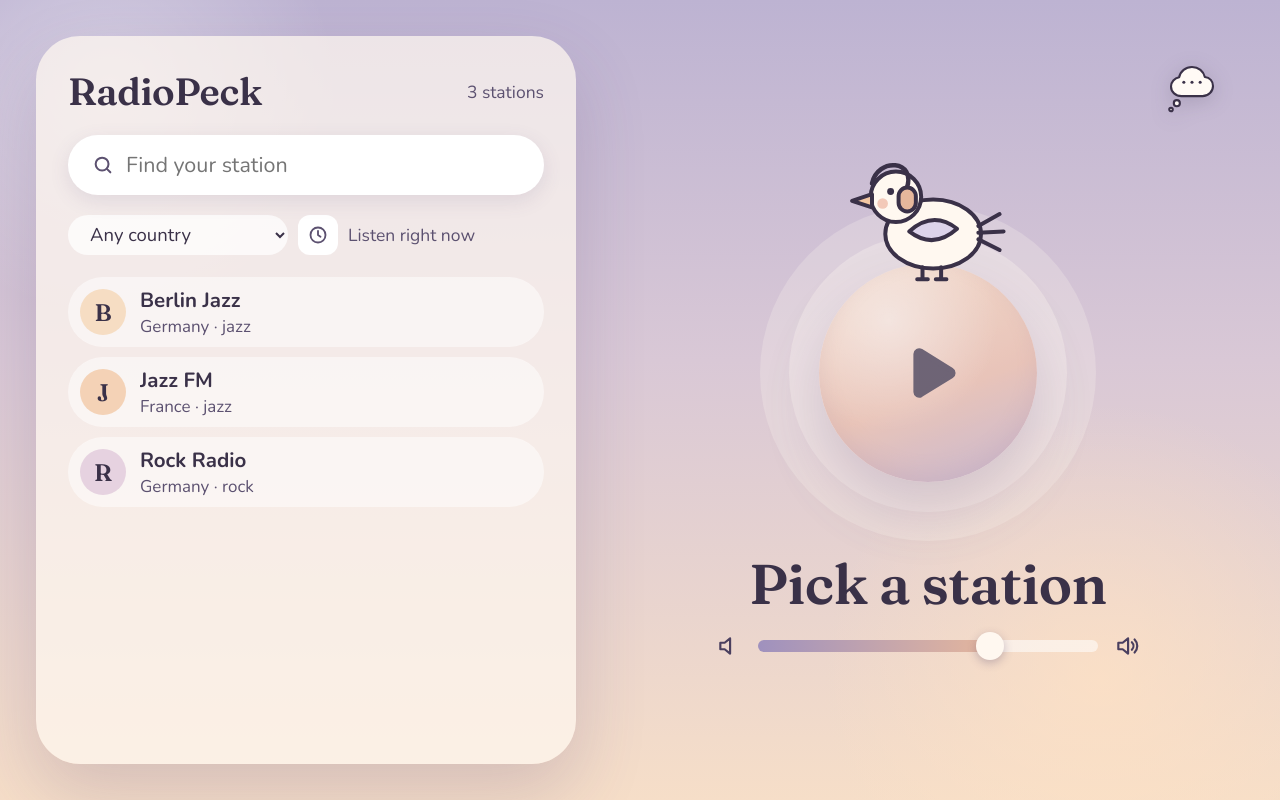
it: App: recently played › shows a hint when nothing has been played yet
What coordinates should you click on to do the following:
click the button named "Recently played"
I would click on:
 (318, 235)
Its box is [298, 215, 338, 255].
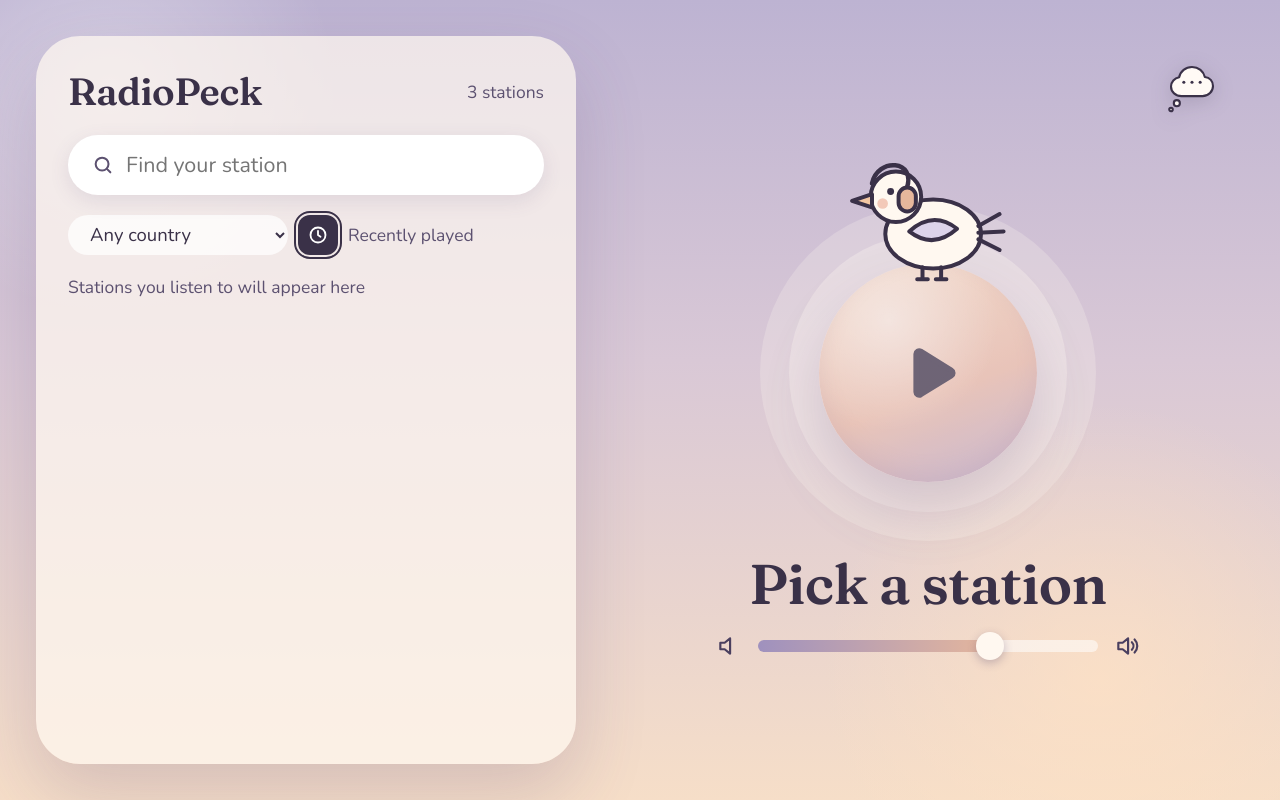
Check: the text "Stations you listen to will appear here" is shown, box [68, 275, 365, 299]
